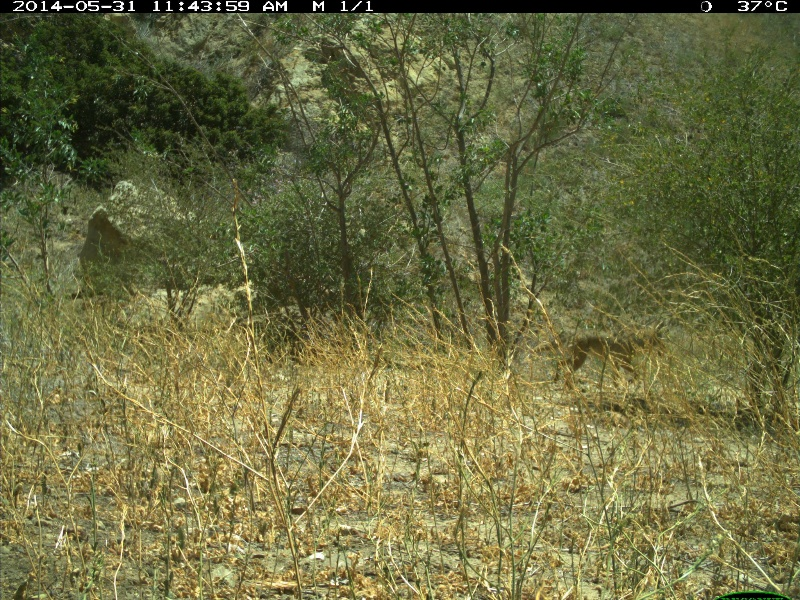coyote: (554, 319, 672, 405)
